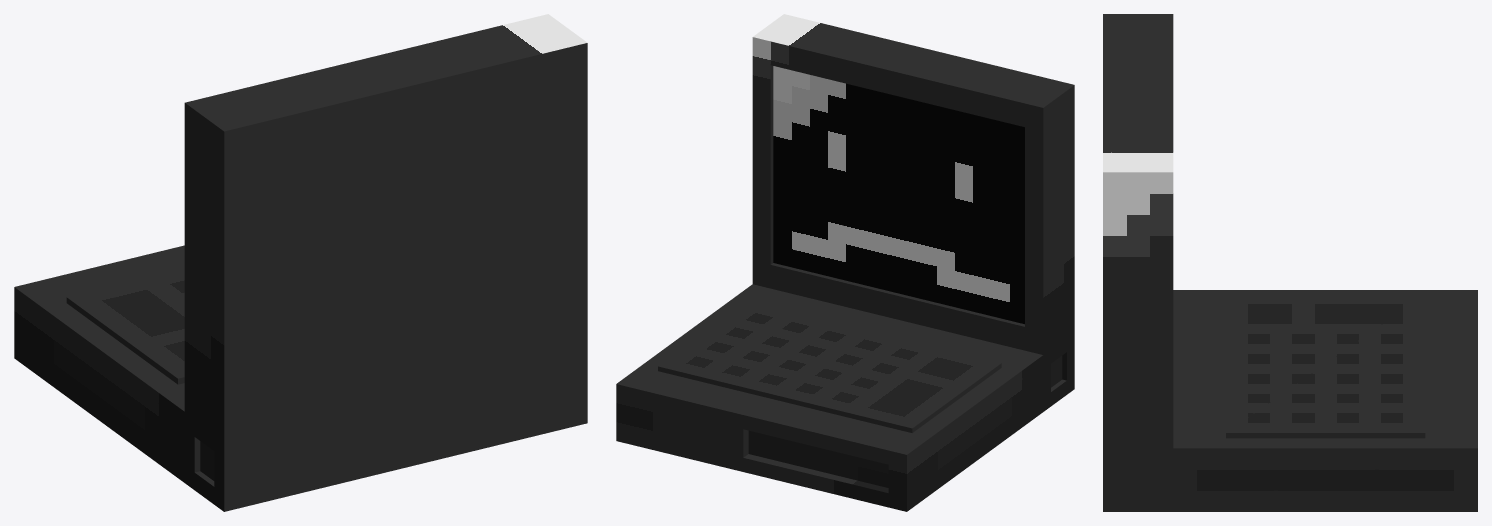
File: laptop.fbx
3 views of the same model, side by side, from view 1: azimuth 30°, elevation 25°; view 2: azimuth 150°, elevation 25°; view 3: azimuth 270°, elevation 25° (orthographic). The views are drawn at different scales.
Parts seen in each view (by area): view 1: cube; view 2: cube; view 3: cube.
Boxes of the visible parts, bbox=[...] form: cube: bbox=[14, 14, 587, 511]; cube: bbox=[616, 14, 1074, 511]; cube: bbox=[1103, 14, 1477, 511].
Bounding box in the file's own units: 100 × 100 × 100.
1 material, 1 textured.
